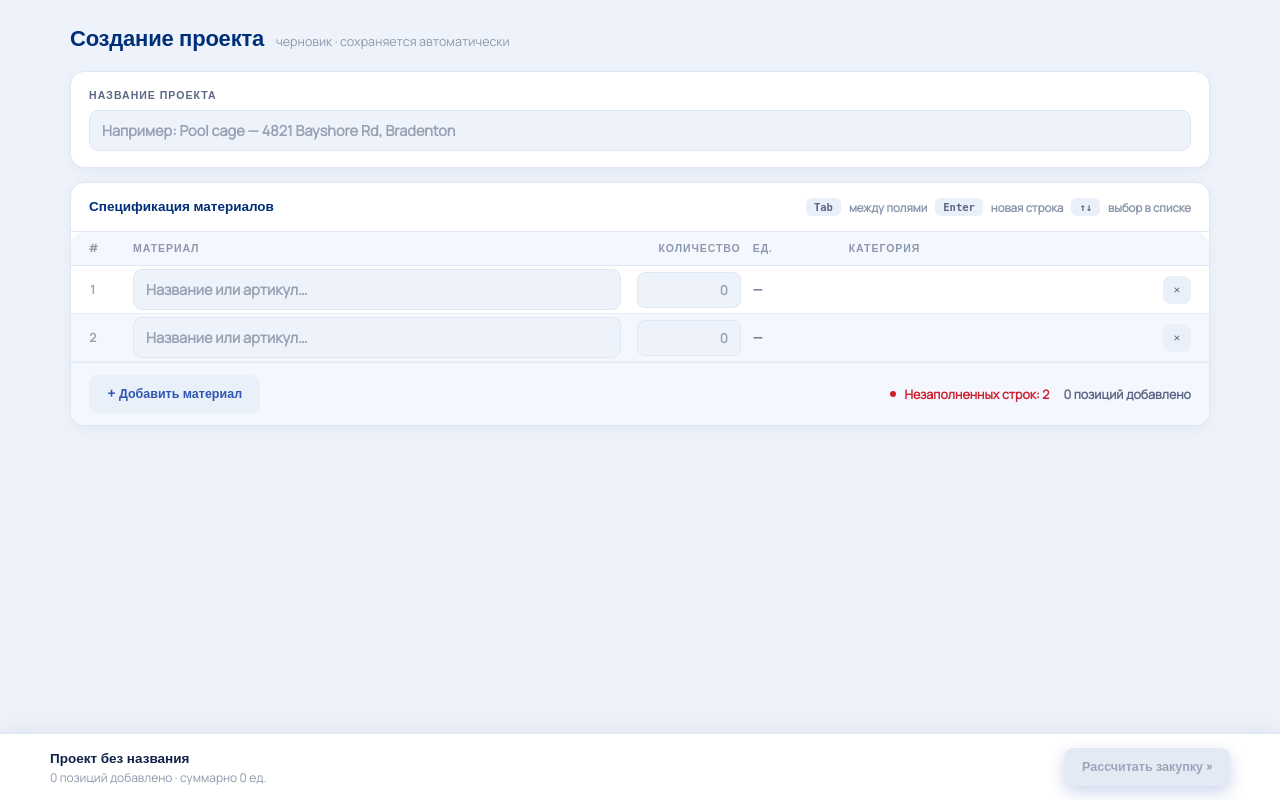
Test: ProjectBuilderPage › category grouping and duplicate highlighting › does not block adding a material already used in another row, and highlights both as duplicates
The image size is (1280, 800).
Type "Дверная ручка" into the 1st dropdown with placeholder "Название или артикул…" at (377, 290), box [133,269,621,310]
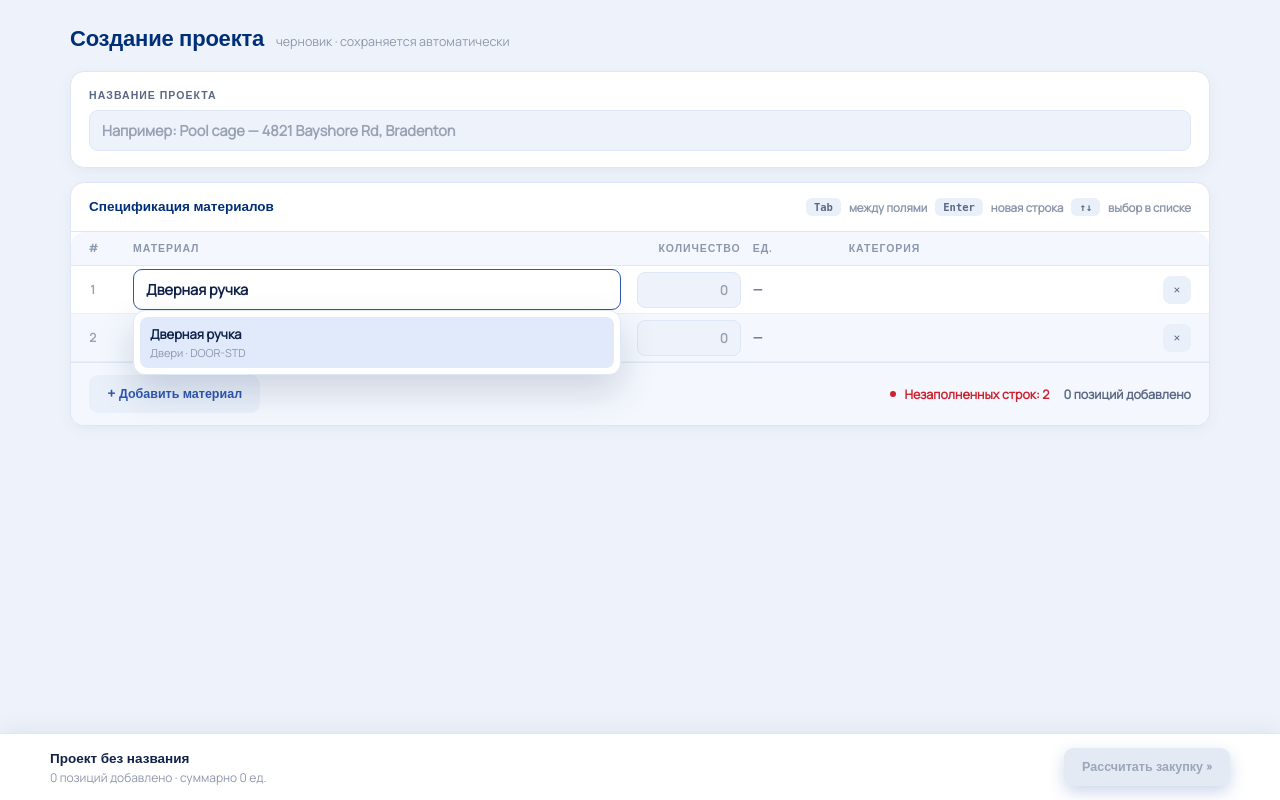
Click the text "Дверная ручка" at (196, 334), box [150,325,242,343]
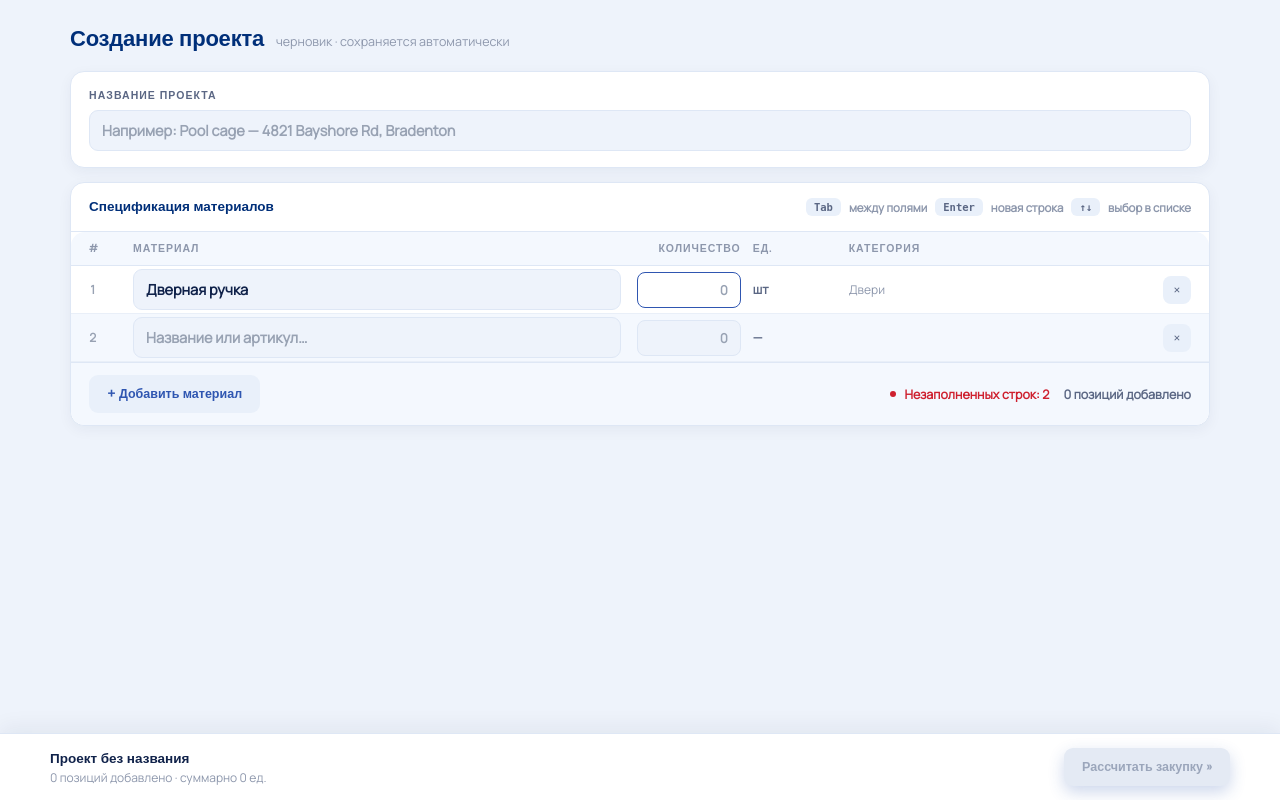
Type "2" into the number field with placeholder "0" next to "шт" at (689, 290), box [637,272,741,308]
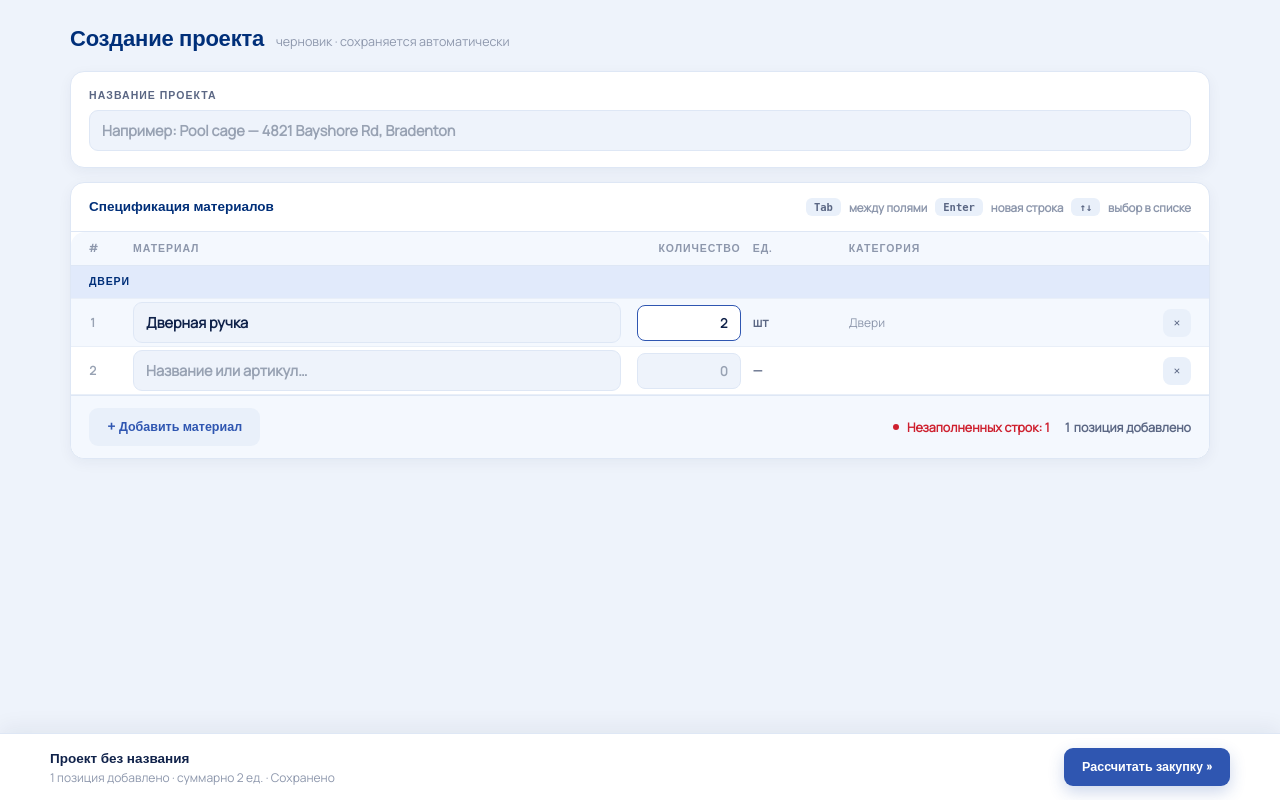
Expected: the text "дубль" is not shown
Type "Дверная ручка" into the dropdown with placeholder "Название или артикул…" at (377, 370), box [133,350,621,391]
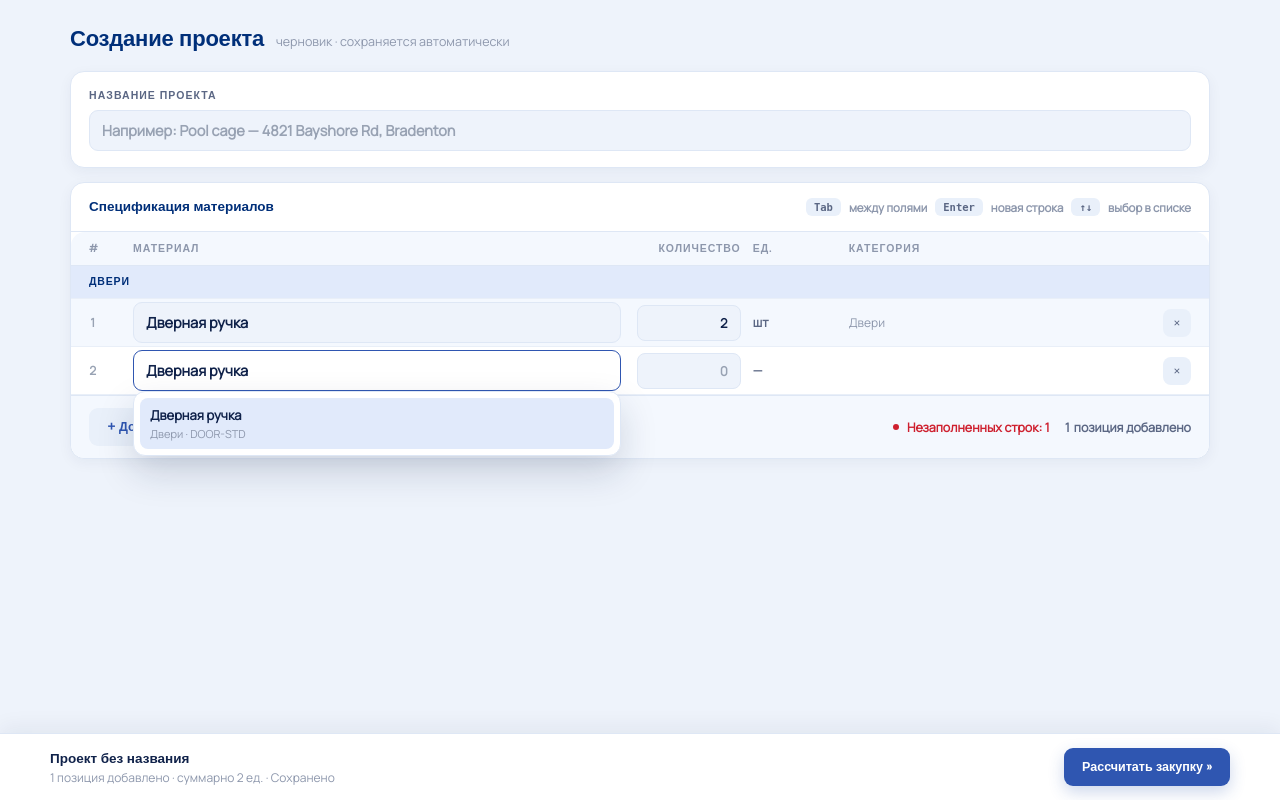
Click the text "Дверная ручка" at (196, 415), box [150,406,242,424]
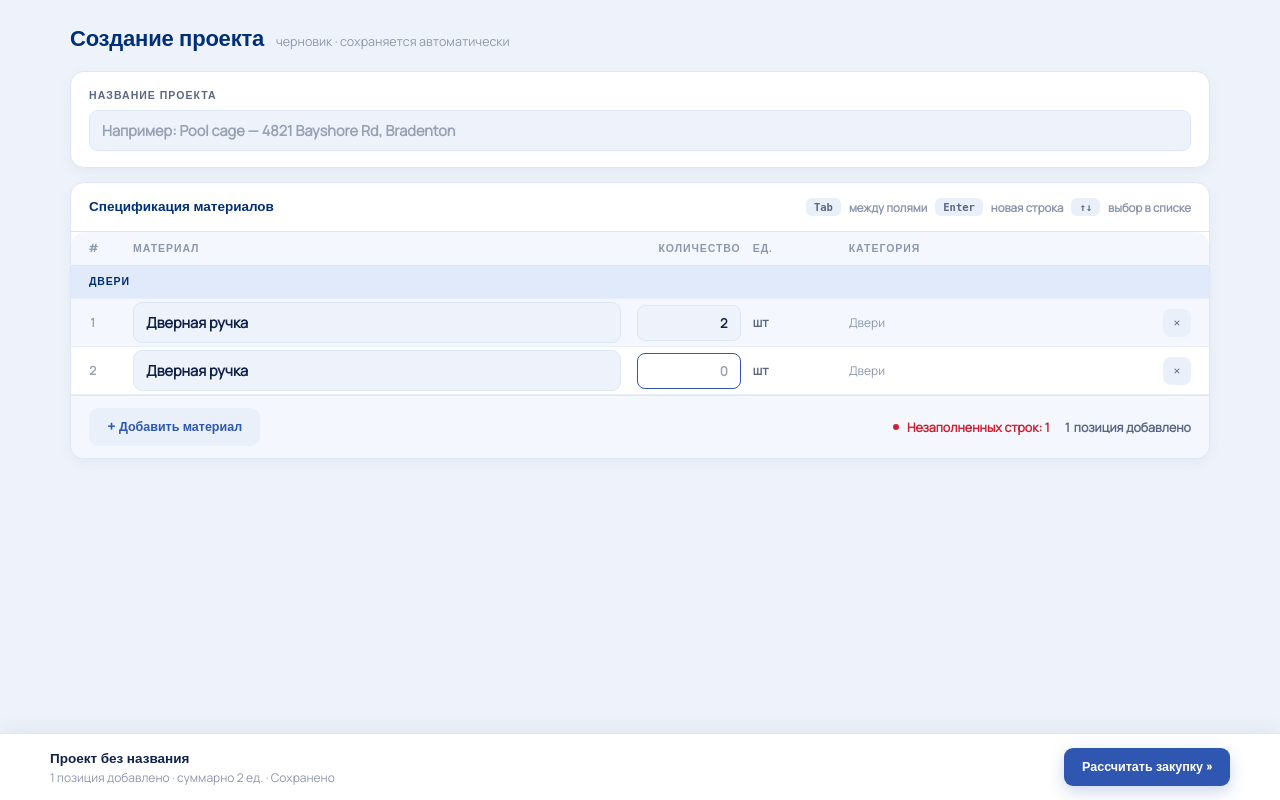
Type "3" into the number field with placeholder "0" at (689, 370), box [637,352,741,388]
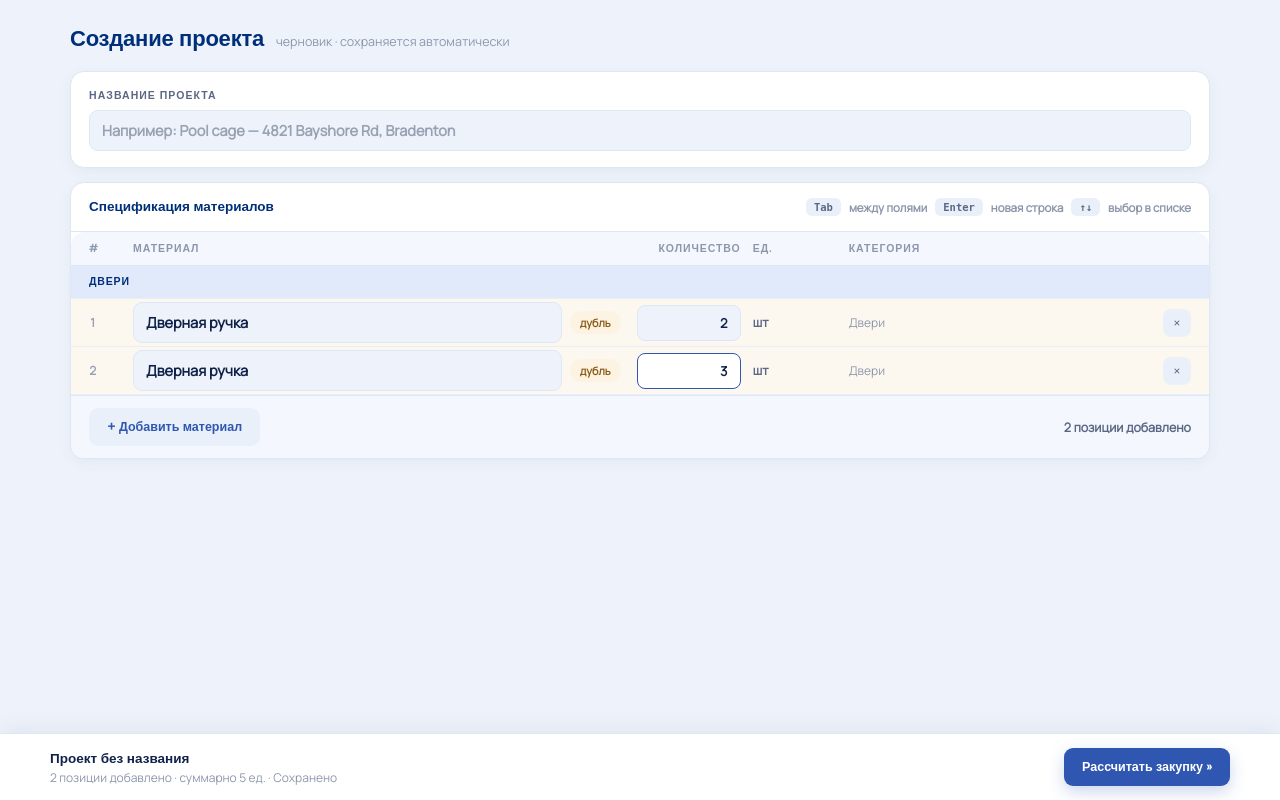
Expected: the text "дубль" is shown 2 times, [570,311,621,334]; [570,359,621,382]
